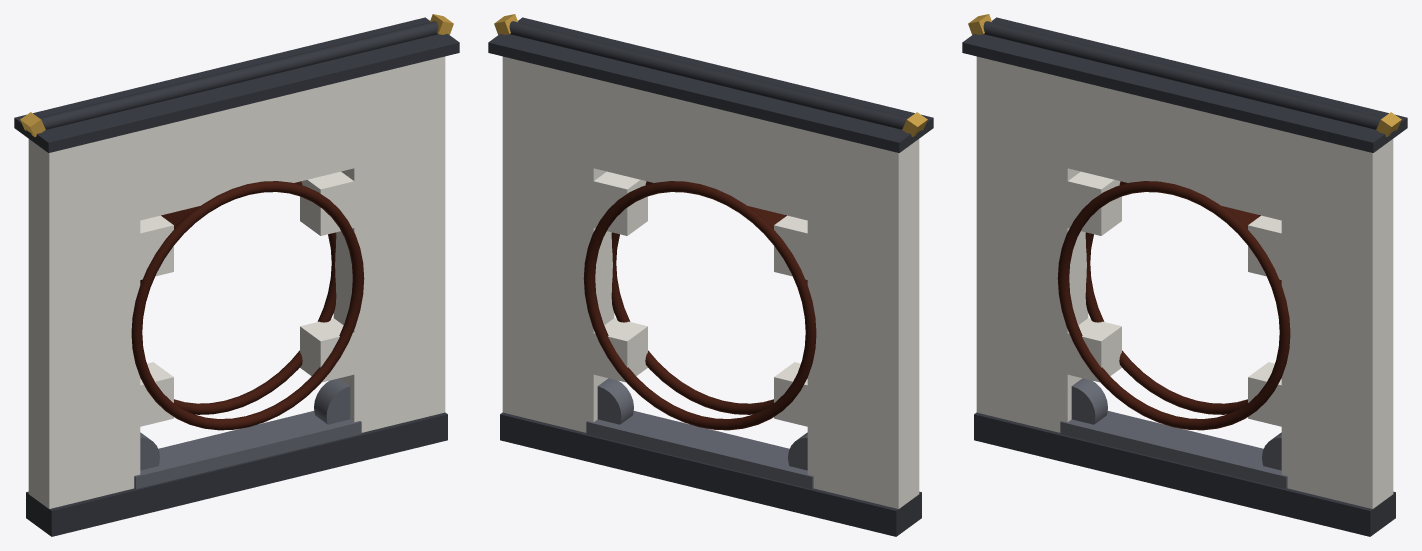
The model's file is pal1-courtyard-moon-gate.glb.
The picture shows the model from 3 angles, left to right: view 1: azimuth 30°, elevation 25°; view 2: azimuth 150°, elevation 25°; view 3: azimuth 330°, elevation 25°; orthographic projection.
Visible parts, largest first — view 1: Pal1MoonGate; view 2: Pal1MoonGate; view 3: Pal1MoonGate.
Boxes of the visible parts, x1,y1,x2,y2 form: Pal1MoonGate: (14,14,459,536); Pal1MoonGate: (488,14,933,536); Pal1MoonGate: (962,14,1407,536).
Size of what is drawn, in the model's own units: 4.28 by 3.98 by 0.6.
